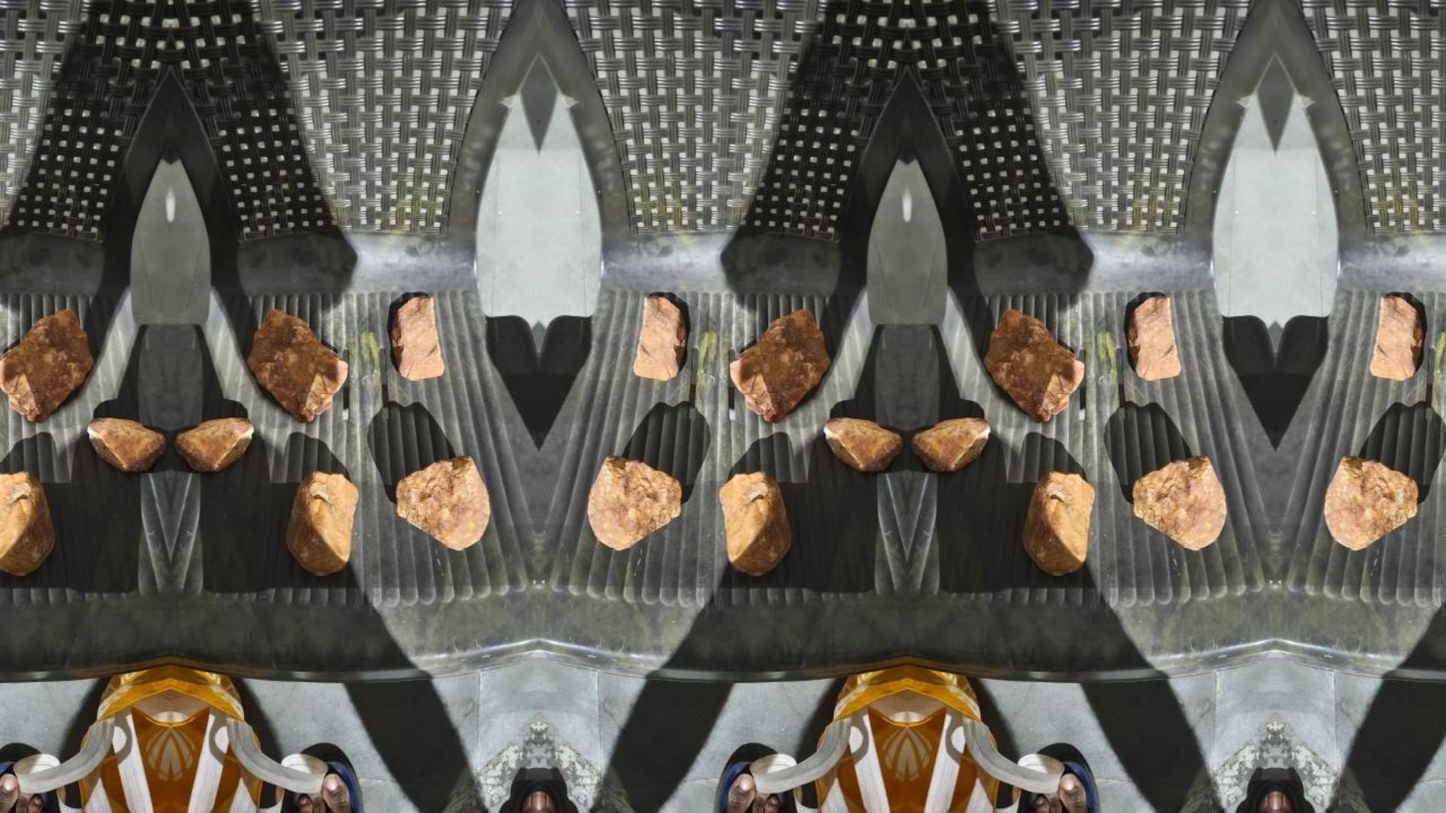rock: (983, 309, 1083, 422), (247, 309, 347, 421), (730, 309, 829, 422), (0, 309, 93, 421), (1132, 456, 1227, 550), (587, 456, 680, 550), (1324, 456, 1418, 549), (397, 455, 489, 549), (718, 471, 791, 575), (1022, 471, 1094, 575), (287, 471, 357, 575), (0, 471, 53, 575), (1125, 294, 1181, 379), (1369, 295, 1423, 379), (633, 296, 687, 379), (391, 297, 444, 379), (87, 418, 166, 472), (175, 418, 253, 472), (912, 418, 990, 472), (824, 418, 901, 472)
